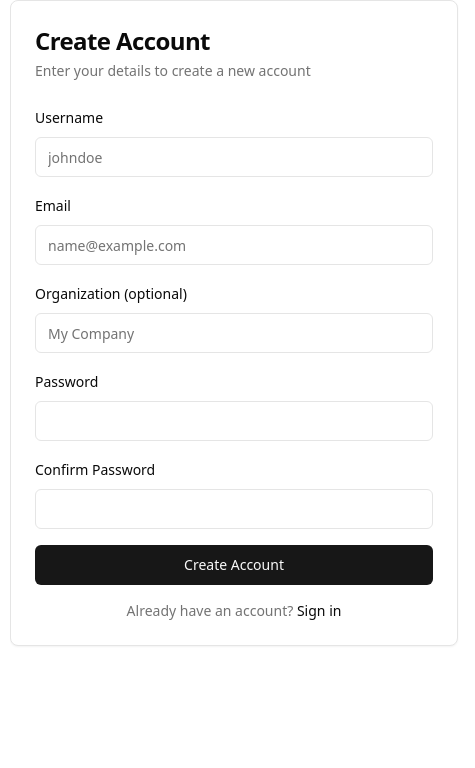
Test: RegisterPage › should validate password confirmation
The width and height of the screenshot is (475, 768).
Step 1. Type "testuser" into the field labelled "Username" → (234, 157), box [35,137,433,177]
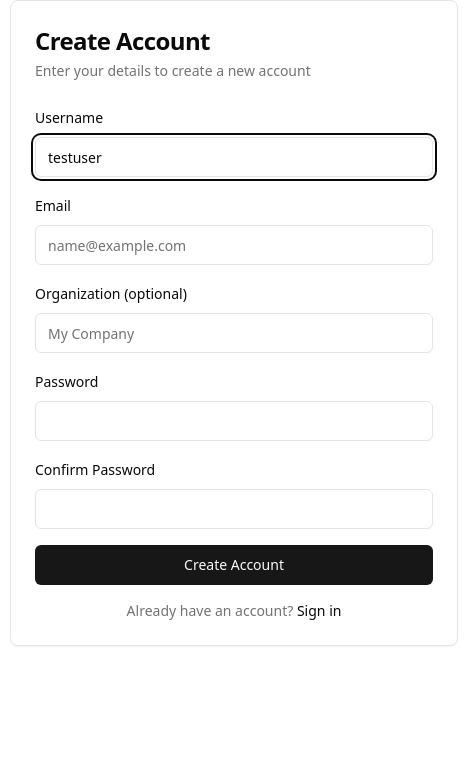
Step 2. Type "test@test.com" into the field labelled "Email" → (234, 245), box [35,225,433,265]
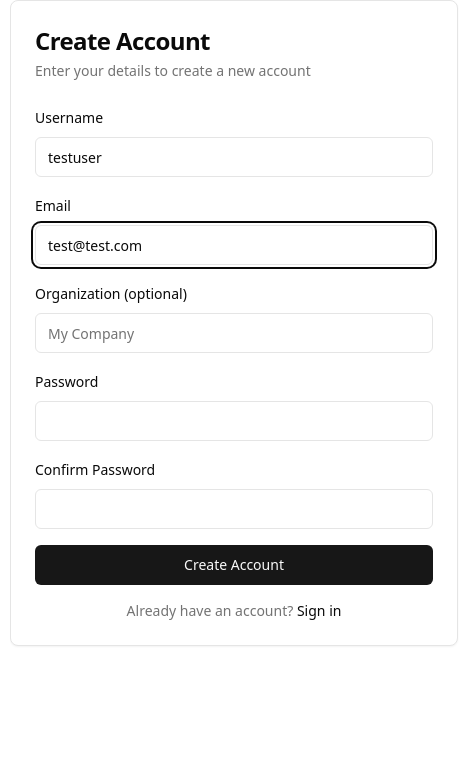
Step 3. Type "SecurePass123" into the password field labelled "Password" → (234, 421), box [35,401,433,441]
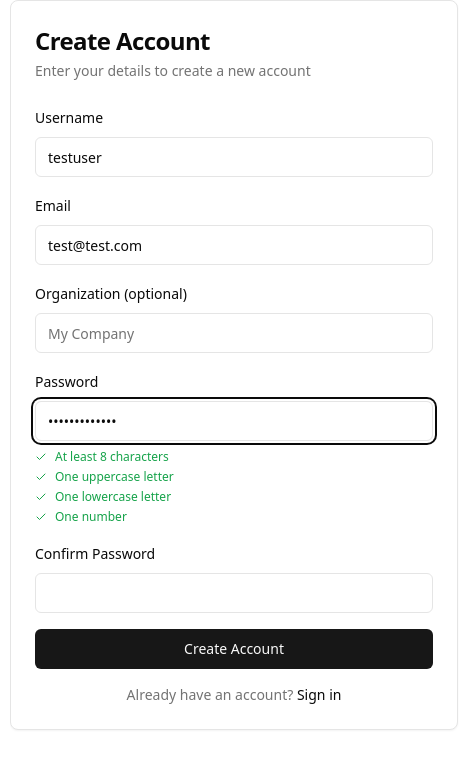
Step 4. Type "DifferentPass123" into the password field labelled "Confirm Password" → (234, 593), box [35,573,433,613]
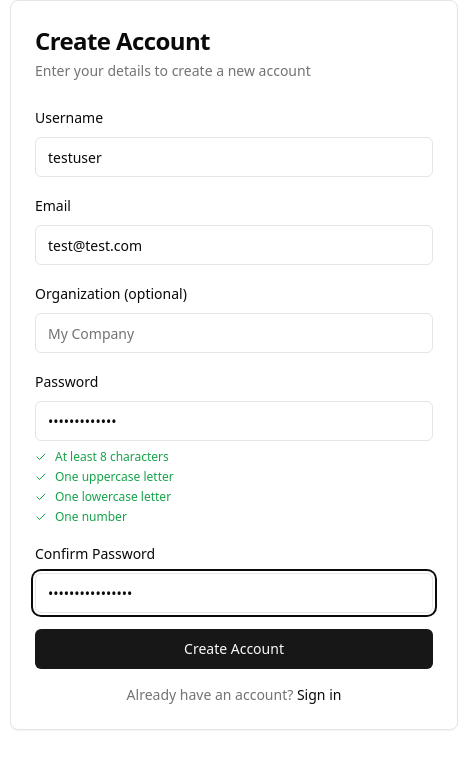
Step 5. Click the button "Create Account" → (234, 649), box [35,629,433,669]
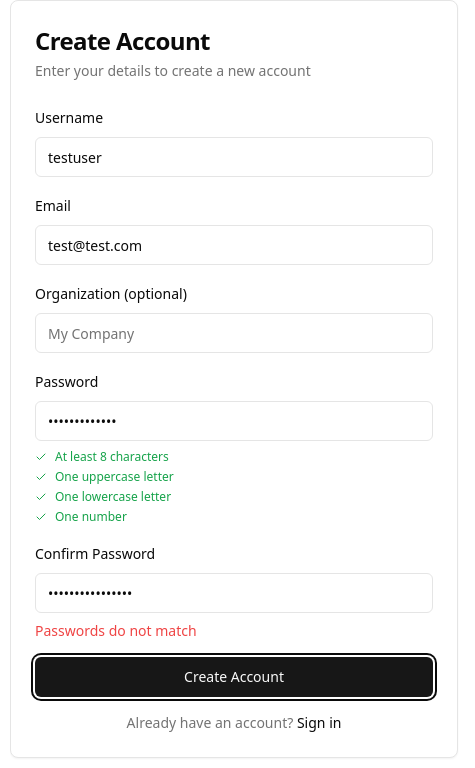
Check: the text "Passwords do not match" is shown, box [35,621,197,640]
